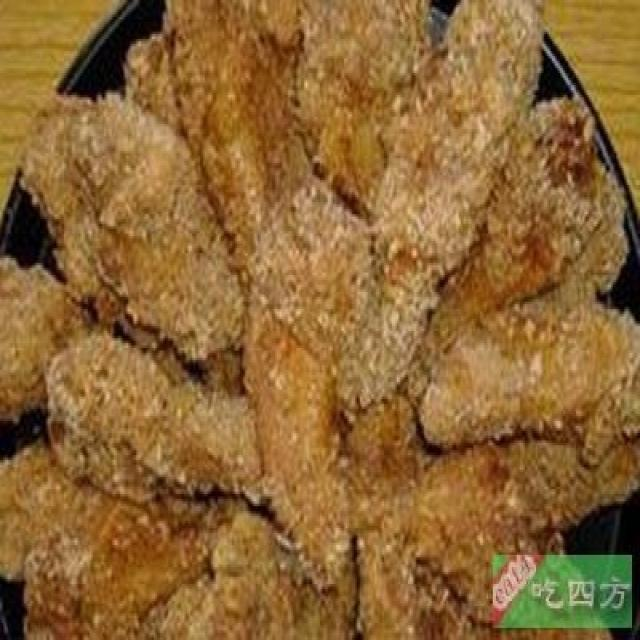鸡肉料理 含炸鸡: (16, 10, 629, 630)
